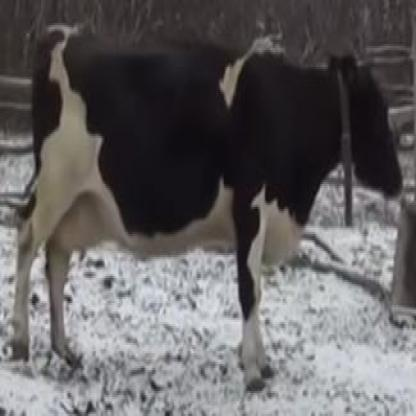cow: (13, 27, 403, 391)
